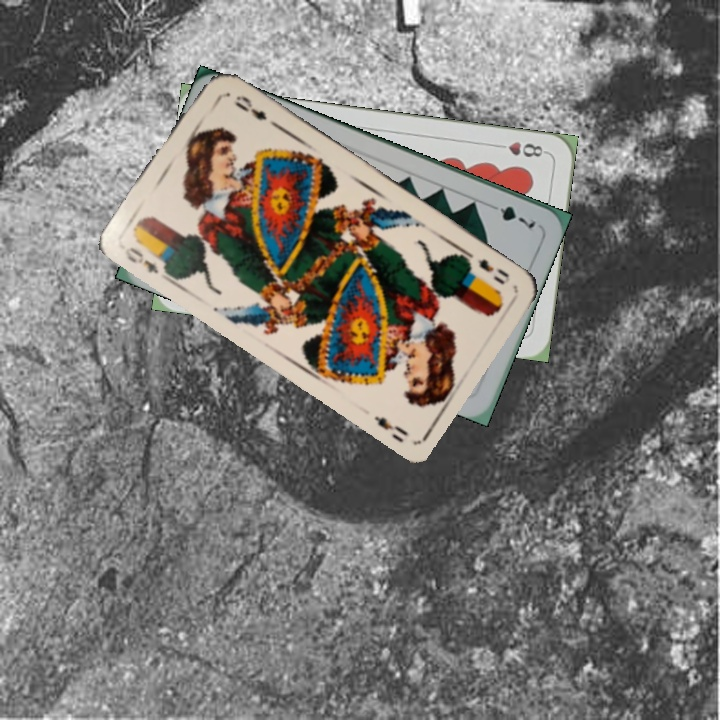EO: (462, 249, 512, 287), (120, 242, 161, 276)
G7: (483, 199, 538, 231)
H8: (491, 138, 550, 160)
